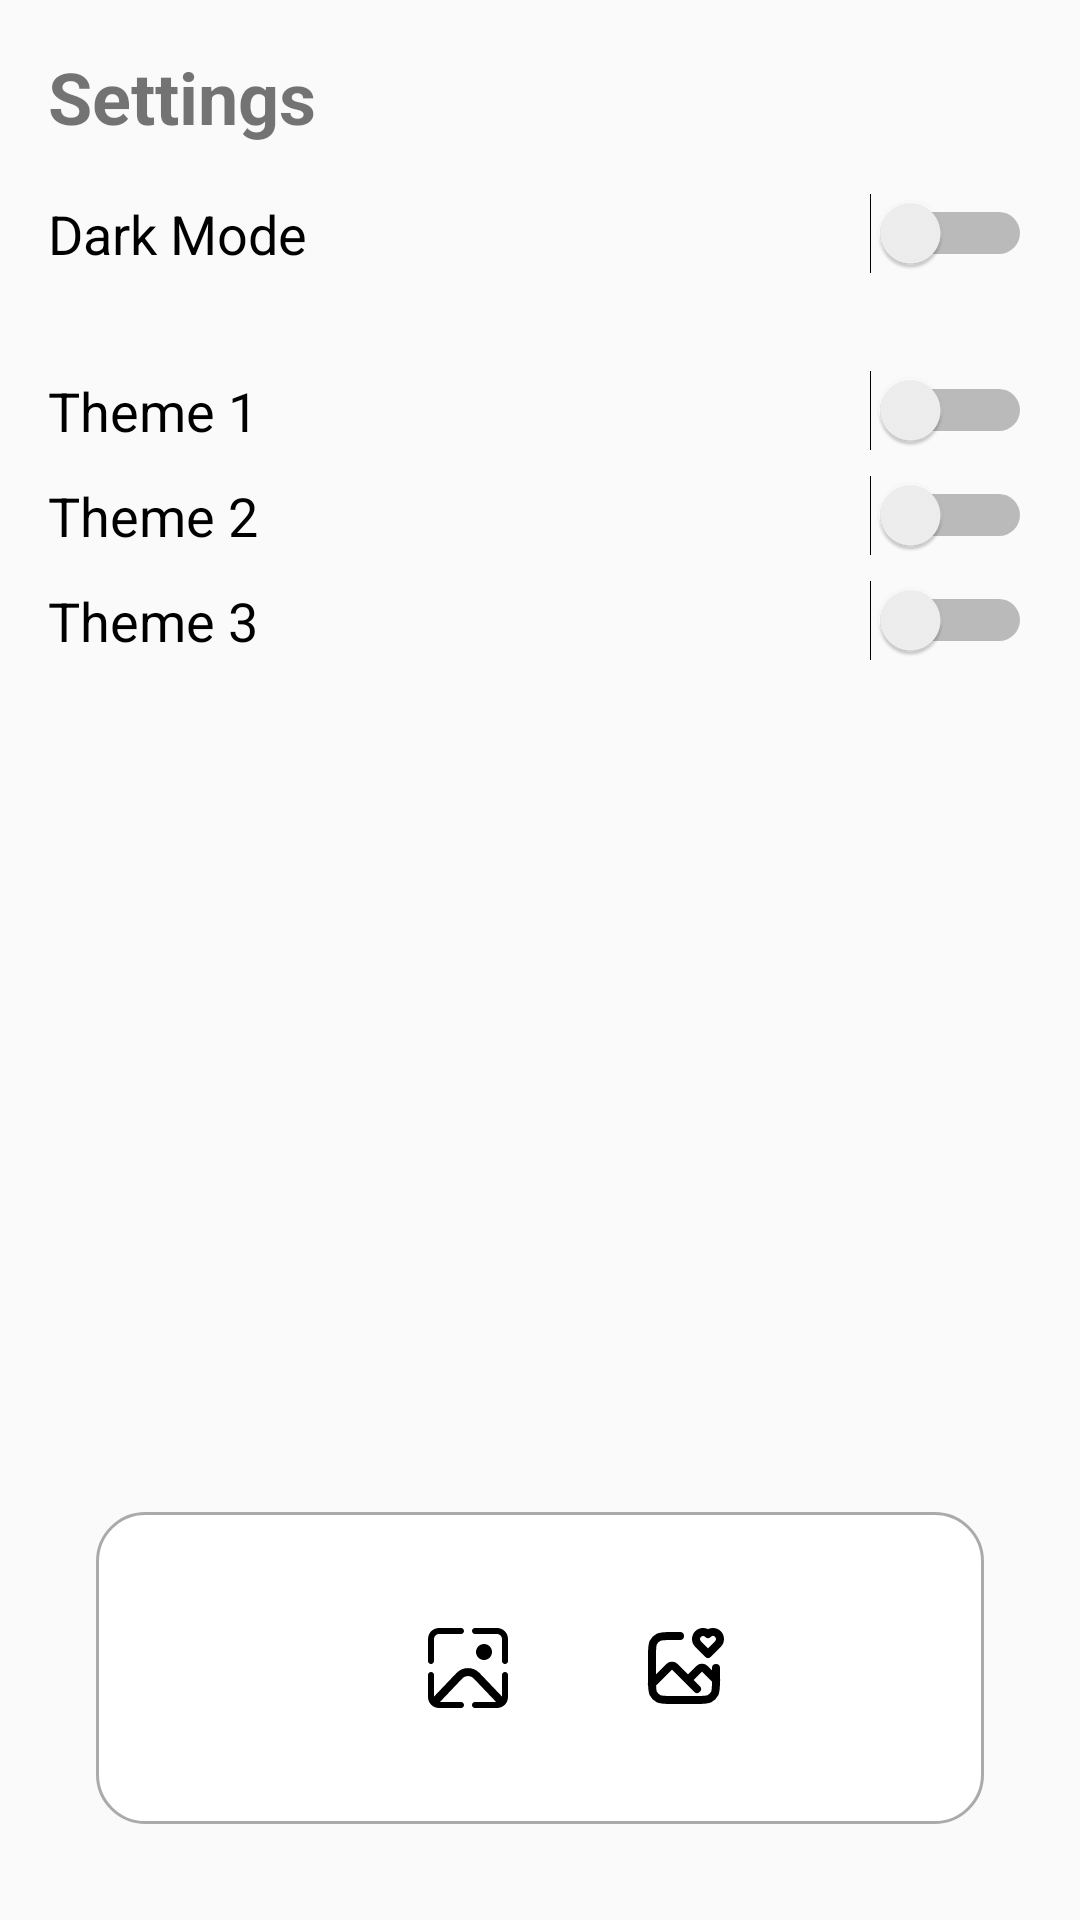

Named icons in this screenshot (1080x1920) and their centers, (x=x, y=y):
favourite: (x=685, y=1666)
